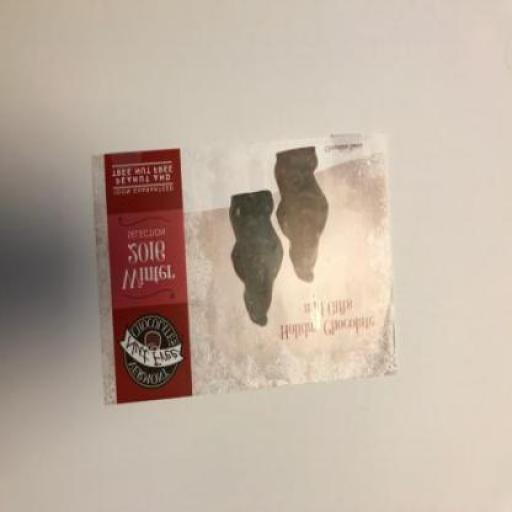paper: (94, 133, 398, 402)
